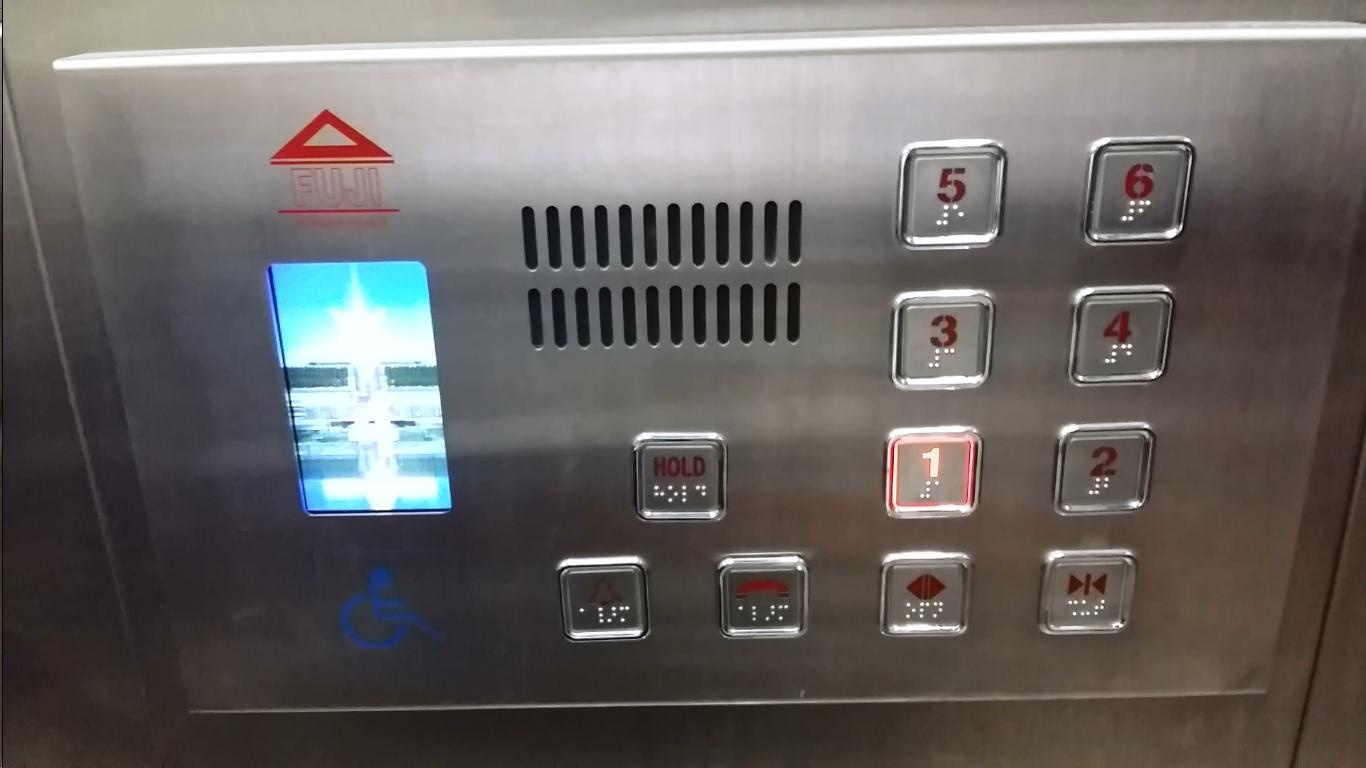1: (883, 422, 984, 523)
2: (1047, 421, 1158, 520)
3: (886, 290, 996, 395)
4: (1065, 282, 1175, 390)
5: (893, 139, 1008, 254)
6: (1079, 132, 1197, 249)
CH: (311, 547, 445, 669)
alarm: (554, 555, 654, 642)
call: (712, 550, 812, 642)
close: (1034, 548, 1139, 638)
led: (261, 257, 457, 520)
open: (875, 549, 974, 640)
text_HOLD: (629, 431, 732, 526)
